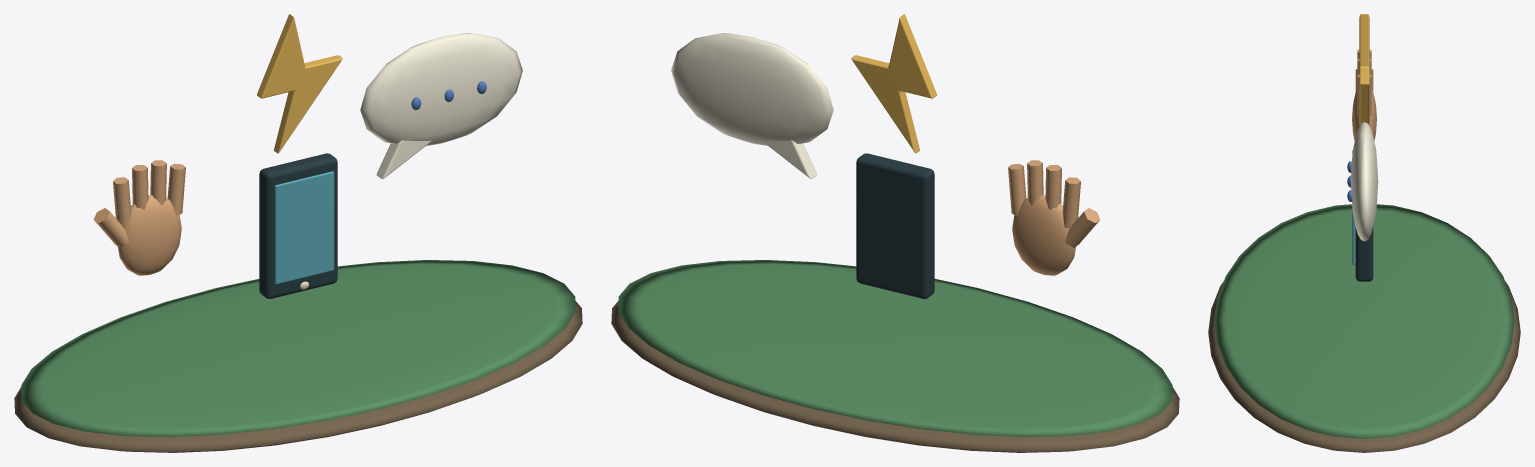
The model's file is phone-call.glb.
3 renders of one model, left to right at view 1: azimuth 30°, elevation 25°; view 2: azimuth 150°, elevation 25°; view 3: azimuth 270°, elevation 25°, orthographic. The views are drawn at different scales.
Visible parts, largest first — view 1: phone-call_surface_01, phone-call_surface_04, phone-call_surface_00, phone-call_surface_02, phone-call_surface_07, phone-call_surface_06, phone-call_surface_03; view 2: phone-call_surface_01, phone-call_surface_04, phone-call_surface_06, phone-call_surface_00, phone-call_surface_02, phone-call_surface_03; view 3: phone-call_surface_01, phone-call_surface_00, phone-call_surface_04, phone-call_surface_03, phone-call_surface_02, phone-call_surface_06.
Boxes of the visible parts, x1,y1,x2,y2 form: phone-call_surface_01: [21, 260, 575, 436]; phone-call_surface_04: [360, 33, 522, 179]; phone-call_surface_00: [14, 301, 582, 452]; phone-call_surface_02: [93, 160, 185, 275]; phone-call_surface_07: [274, 171, 334, 284]; phone-call_surface_06: [259, 153, 337, 298]; phone-call_surface_03: [257, 14, 342, 153]; phone-call_surface_01: [618, 260, 1172, 436]; phone-call_surface_04: [671, 33, 833, 179]; phone-call_surface_06: [856, 153, 934, 298]; phone-call_surface_00: [611, 301, 1179, 452]; phone-call_surface_02: [1008, 160, 1100, 275]; phone-call_surface_03: [851, 14, 936, 153]; phone-call_surface_01: [1214, 204, 1514, 438]; phone-call_surface_00: [1208, 281, 1520, 452]; phone-call_surface_04: [1351, 122, 1378, 241]; phone-call_surface_03: [1359, 14, 1369, 124]; phone-call_surface_02: [1352, 49, 1376, 140]; phone-call_surface_06: [1355, 227, 1373, 281].
Size of the model in its own units: 4.56 by 2.91 by 2.5.
